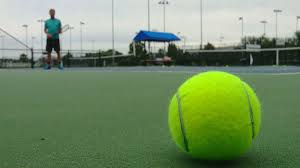tennis_ball: (168, 69, 262, 160)
